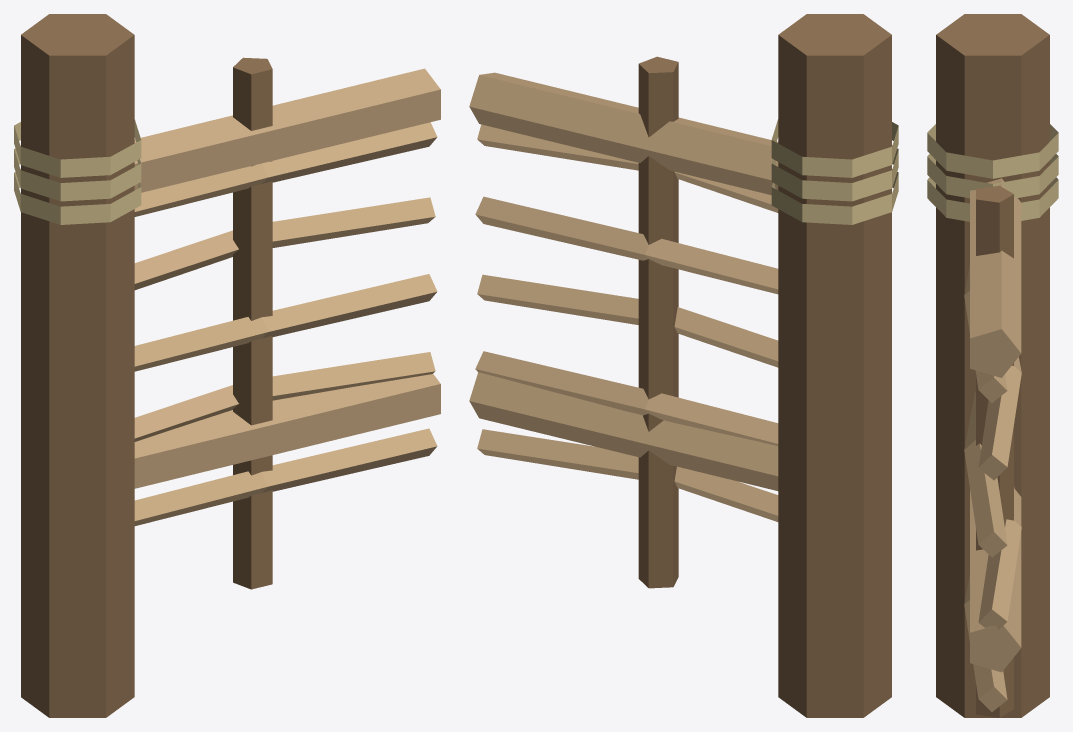
The model's file is pen_fence_02.glb.
The picture shows the model from 3 angles, left to right: view 1: azimuth 30°, elevation 25°; view 2: azimuth 150°, elevation 25°; view 3: azimuth 270°, elevation 25°; orthographic projection.
Parts seen in each view (by area): view 1: pen_fence_02; view 2: pen_fence_02; view 3: pen_fence_02.
Part boxes in pixels (x1,y1,x2,y2): pen_fence_02: [14, 14, 440, 717]; pen_fence_02: [469, 14, 898, 717]; pen_fence_02: [927, 14, 1058, 717].
Bounding box in the file's own units: 0.5823 × 0.9 × 0.162.
